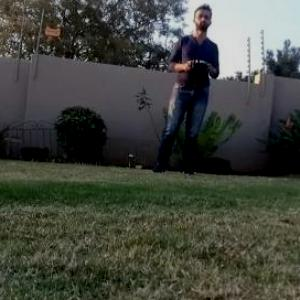follow: (146, 0, 225, 180)
